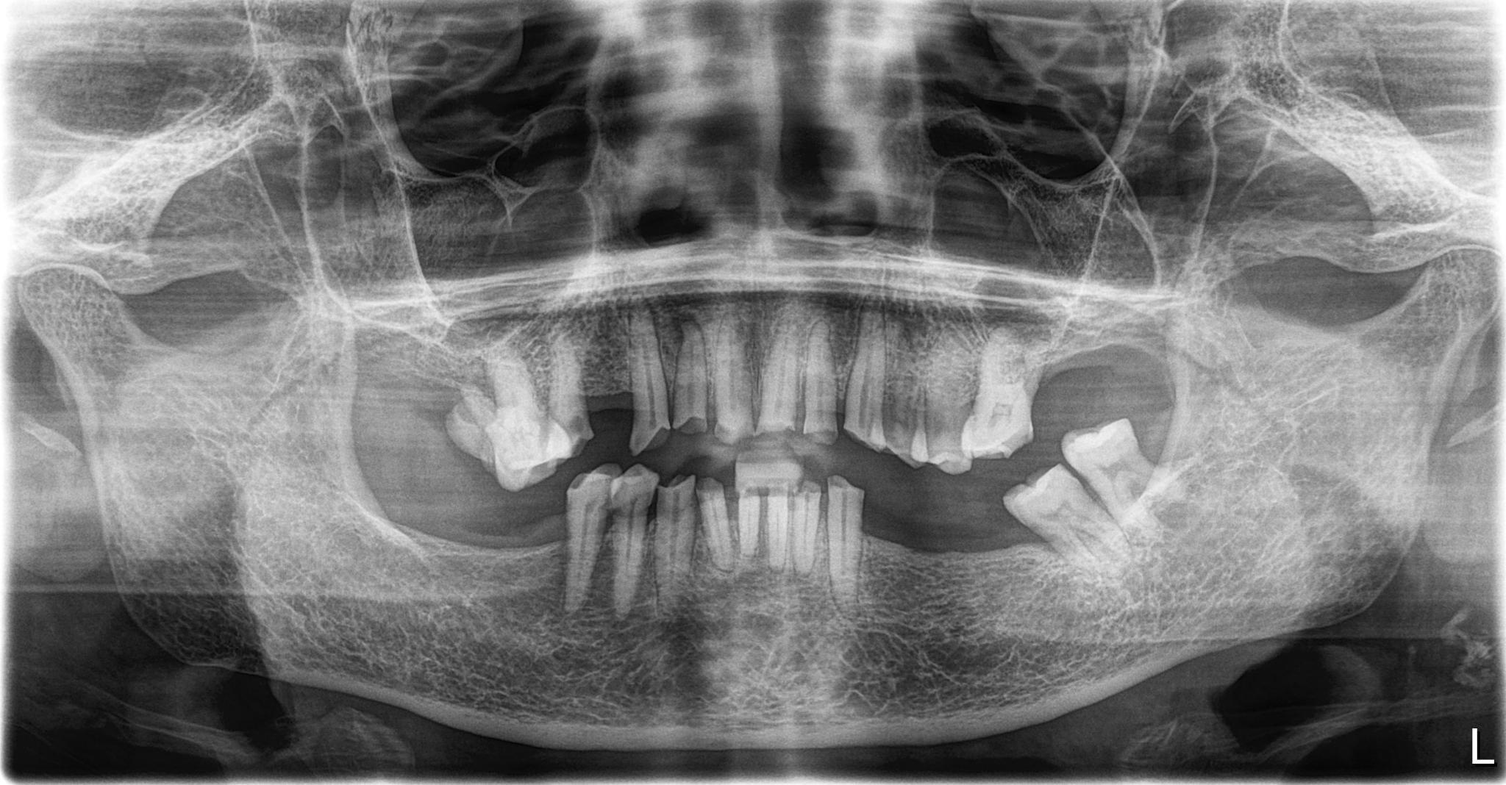Attrition: (663, 476, 868, 566), (638, 390, 917, 449)
Missing Tooth: (471, 485, 552, 590), (415, 327, 468, 450), (958, 500, 1005, 638), (882, 492, 936, 609), (362, 323, 415, 440), (1099, 334, 1166, 422), (415, 474, 464, 587), (585, 338, 632, 440), (366, 472, 408, 584), (1042, 336, 1093, 428)
Periapical Lesion: (643, 296, 726, 368)
